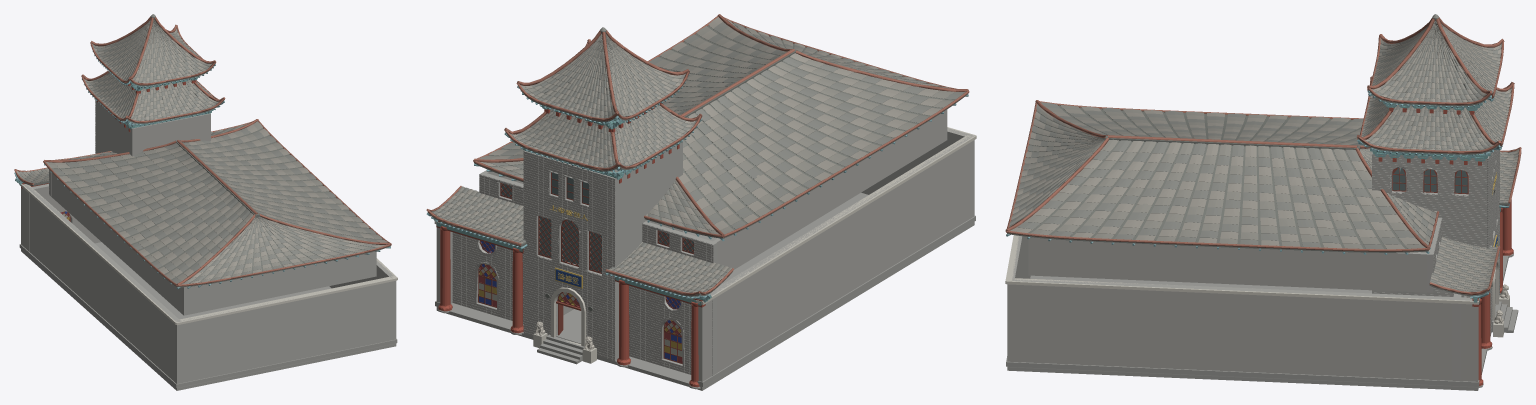
File: hongkou-hongde-church-lod.glb
3 renders of one model, left to right at view 1: azimuth 30°, elevation 25°; view 2: azimuth 150°, elevation 25°; view 3: azimuth 270°, elevation 25°, orthographic. The views are drawn at different scales.
Visible parts, largest first — view 1: object 1; view 2: object 1; view 3: object 1.
Part boxes in pixels (x1,y1,x2,y2): object 1: (14,14,397,390); object 1: (426,14,976,390); object 1: (1005,14,1521,390).
Bounding box in the file's own units: 24.17 × 21.55 × 33.02.
